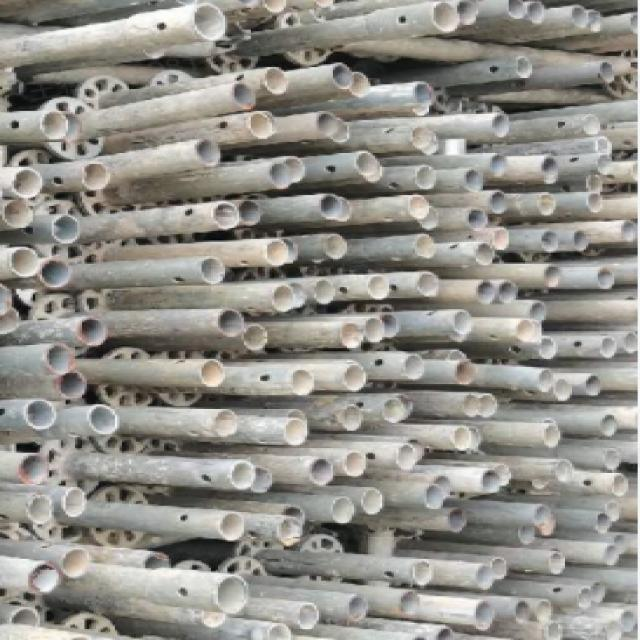pipe: (167, 0, 270, 47), (192, 567, 265, 620), (68, 152, 140, 200), (236, 58, 314, 100), (477, 99, 538, 150), (194, 298, 258, 346), (25, 103, 88, 151), (439, 351, 506, 394), (430, 418, 502, 458), (28, 337, 88, 384), (404, 0, 471, 41), (49, 538, 111, 582), (331, 354, 394, 397), (255, 231, 310, 280), (374, 438, 446, 475), (55, 306, 114, 351), (397, 68, 453, 115), (261, 410, 317, 457), (302, 101, 359, 147), (188, 247, 246, 292), (51, 368, 120, 405), (394, 260, 451, 303), (387, 192, 457, 227), (2, 152, 49, 204), (11, 392, 65, 437), (386, 118, 453, 154), (283, 452, 349, 488), (397, 226, 448, 272), (452, 591, 505, 635), (317, 492, 371, 535), (524, 220, 573, 267), (178, 129, 229, 174), (78, 402, 130, 446), (288, 600, 345, 640), (44, 207, 92, 254), (571, 107, 621, 152), (217, 452, 264, 499), (461, 233, 517, 272), (48, 484, 110, 519), (515, 185, 569, 225), (33, 259, 96, 293), (0, 244, 47, 289), (352, 312, 412, 347), (466, 184, 522, 221), (411, 474, 457, 519), (440, 384, 488, 427), (334, 445, 391, 481), (321, 398, 377, 434), (382, 583, 430, 625), (328, 317, 377, 358), (352, 484, 402, 524), (225, 110, 287, 142), (357, 268, 400, 314), (259, 275, 302, 321), (491, 49, 544, 86), (258, 152, 307, 192), (585, 408, 634, 448), (268, 506, 308, 555), (461, 558, 505, 602), (519, 498, 564, 541), (308, 271, 350, 317), (529, 419, 576, 460), (232, 192, 280, 232), (200, 400, 244, 443), (476, 146, 520, 188), (345, 145, 391, 185), (187, 356, 238, 392), (276, 366, 323, 405), (395, 157, 443, 195), (535, 545, 580, 585), (399, 554, 449, 590), (479, 548, 525, 587), (443, 0, 500, 31), (0, 188, 39, 233), (536, 457, 585, 492), (203, 197, 248, 235), (210, 503, 251, 544), (468, 465, 516, 500), (396, 346, 436, 387), (313, 226, 355, 265), (434, 500, 477, 538), (378, 390, 423, 426), (515, 0, 560, 35), (572, 184, 617, 219), (573, 363, 612, 403), (506, 313, 545, 352), (464, 275, 502, 314), (581, 259, 620, 297), (530, 148, 568, 186), (532, 257, 569, 296), (487, 0, 535, 30), (582, 329, 620, 366), (556, 0, 591, 40), (594, 468, 637, 500), (312, 187, 351, 222), (321, 55, 355, 94), (530, 364, 568, 397)
